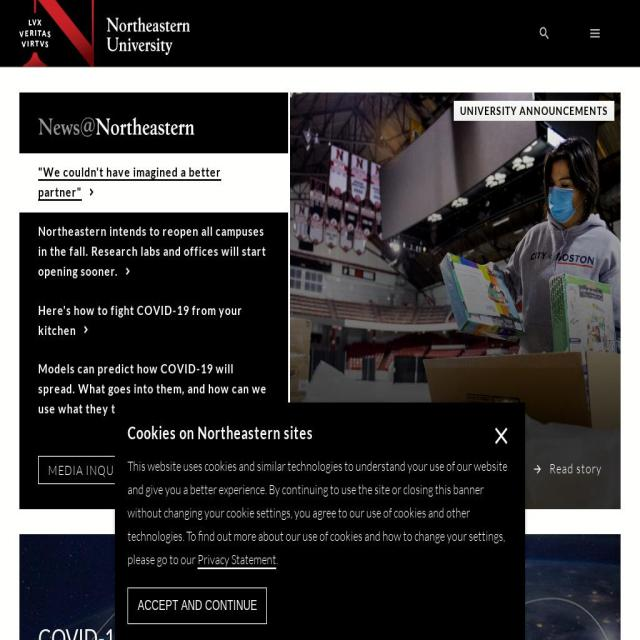button: (19, 212, 288, 292), (19, 350, 288, 430), (19, 152, 288, 212), (19, 291, 288, 351), (38, 117, 288, 145), (128, 588, 268, 624), (38, 456, 150, 484), (532, 454, 602, 484), (197, 551, 277, 569)
heading: (128, 419, 512, 446), (460, 101, 609, 121)
image: (19, 534, 621, 640), (19, 0, 190, 67), (38, 118, 194, 136)
text: (128, 458, 508, 568), (37, 360, 267, 417), (38, 222, 266, 278), (38, 623, 622, 640), (38, 301, 242, 337), (38, 162, 222, 201), (550, 459, 602, 478), (490, 419, 512, 459), (276, 551, 279, 567)
